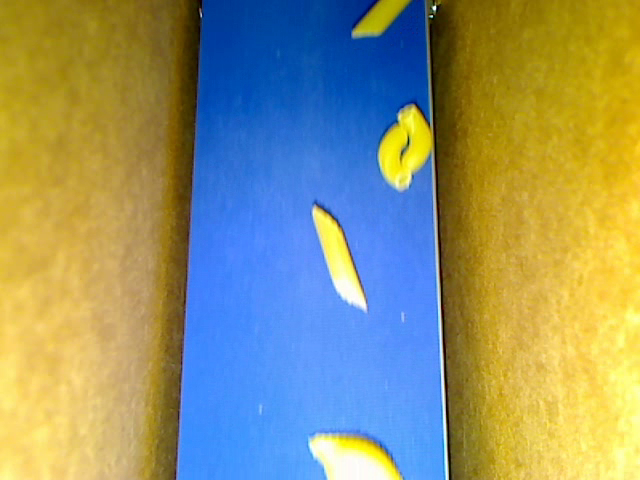elbow: (378, 123, 413, 193), (398, 102, 430, 173)
penne: (311, 204, 367, 310), (351, 1, 410, 36)
shell: (307, 429, 403, 479)
